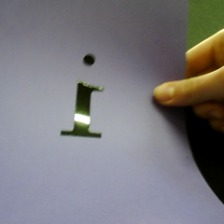violet1: (45, 50, 114, 141)
